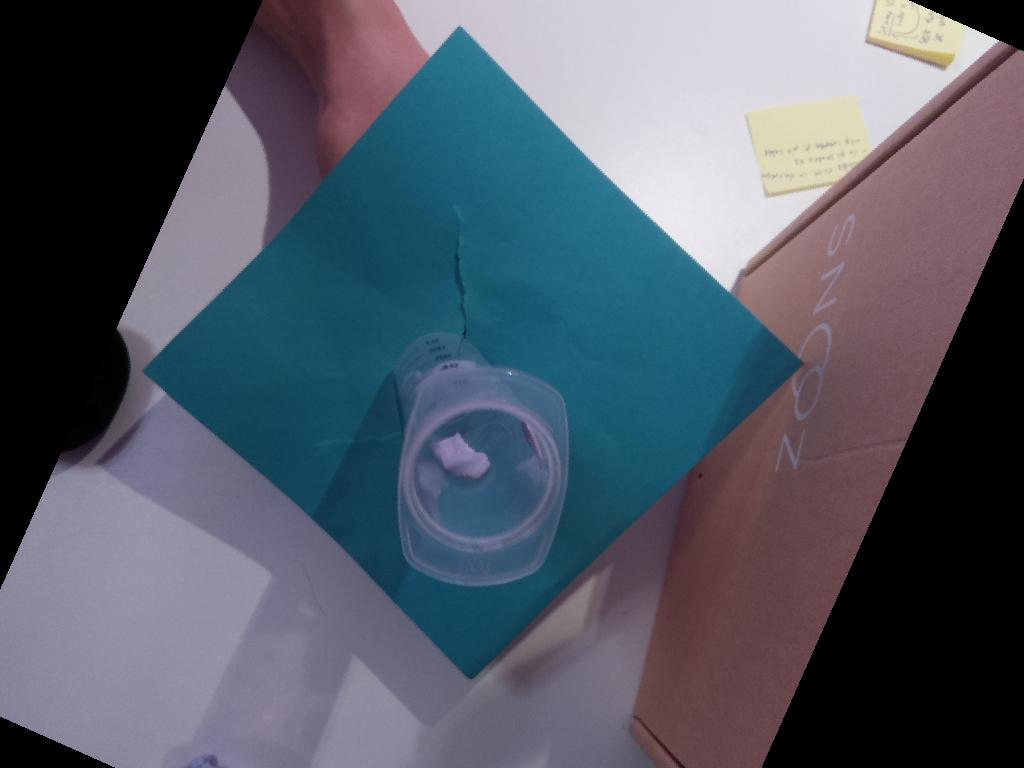dirty: (397, 366, 571, 588)
